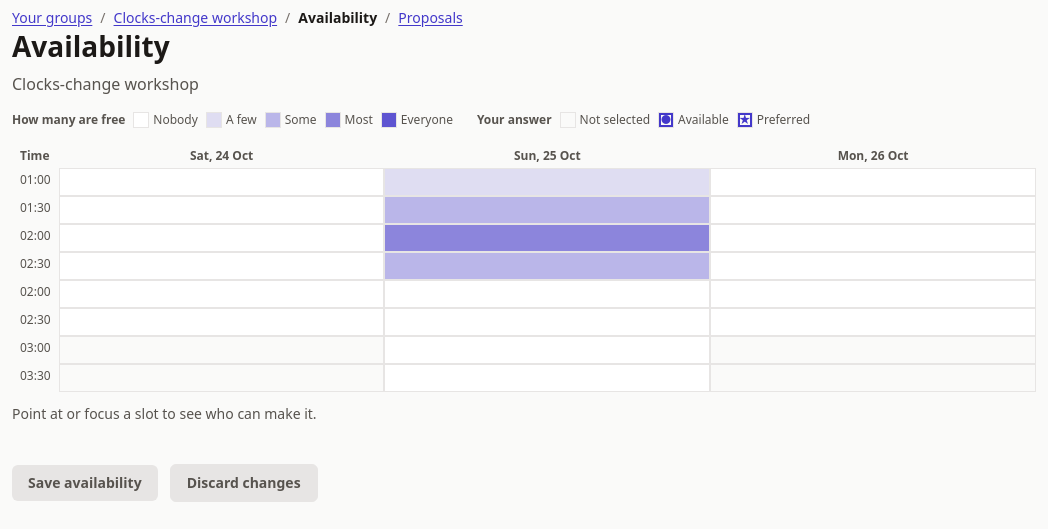
Test: AvailabilityBoard polling › flags, rather than drops, a selected slot the server stops offering
This screenshot has width=1048, height=529.
Press the mouse on the cell named "Sun, 25 Oct at 01:00" at (547, 182), box [384,168,710,196]
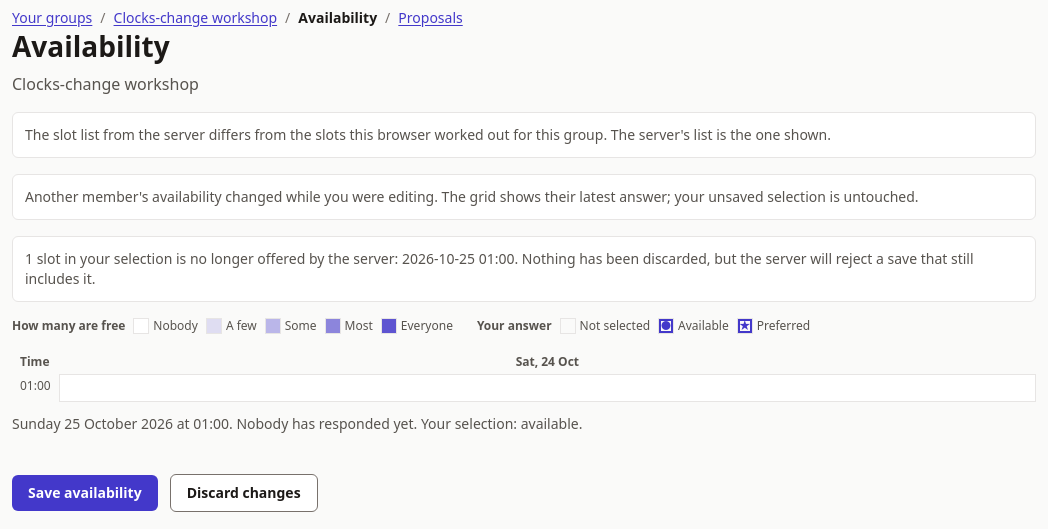
Expected: the text "no longer offered" is shown, [25,249,974,288]
Expected: the button "Save availability" is enabled, [12,475,158,511]
